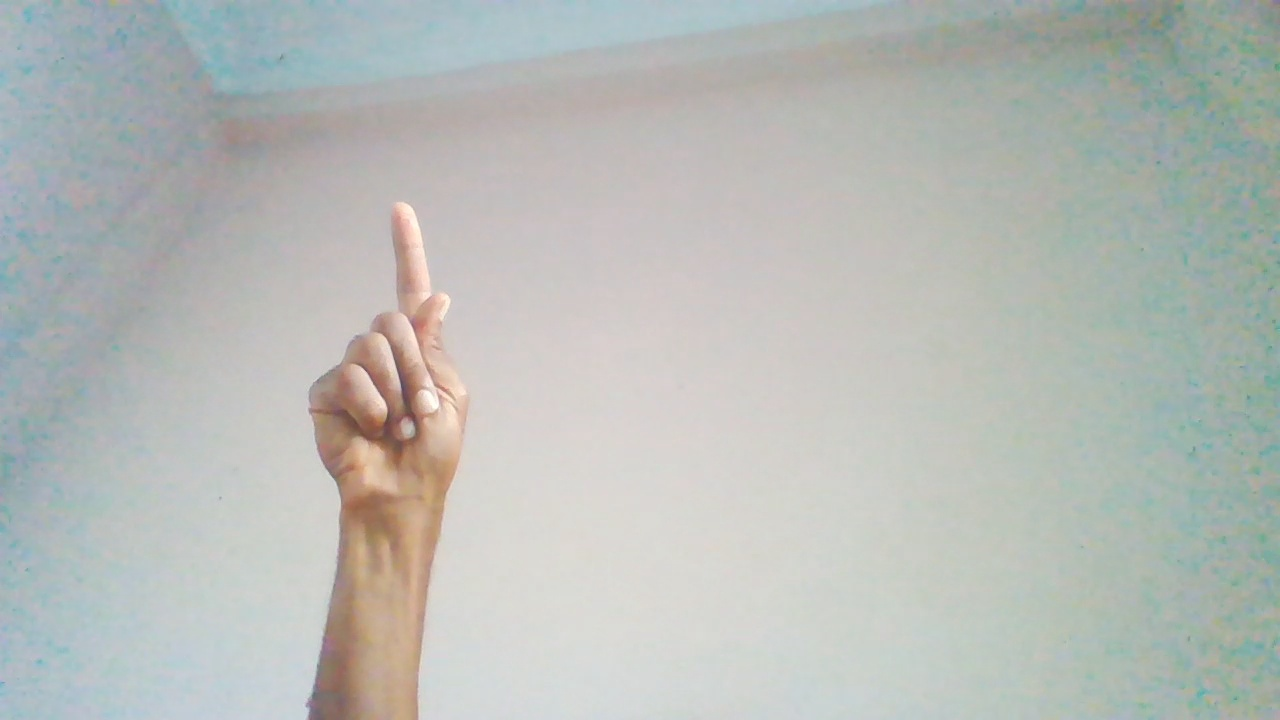ne: (306, 198, 478, 590)
